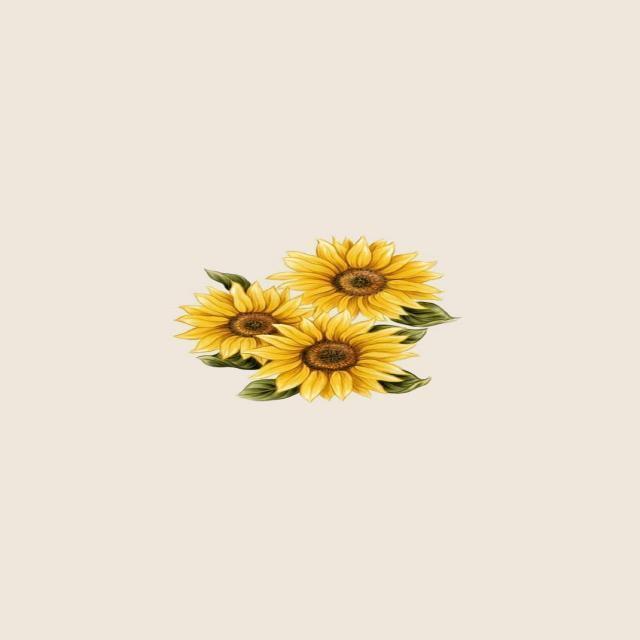sunflower: (242, 313, 418, 402), (265, 235, 444, 322), (172, 280, 314, 360)
